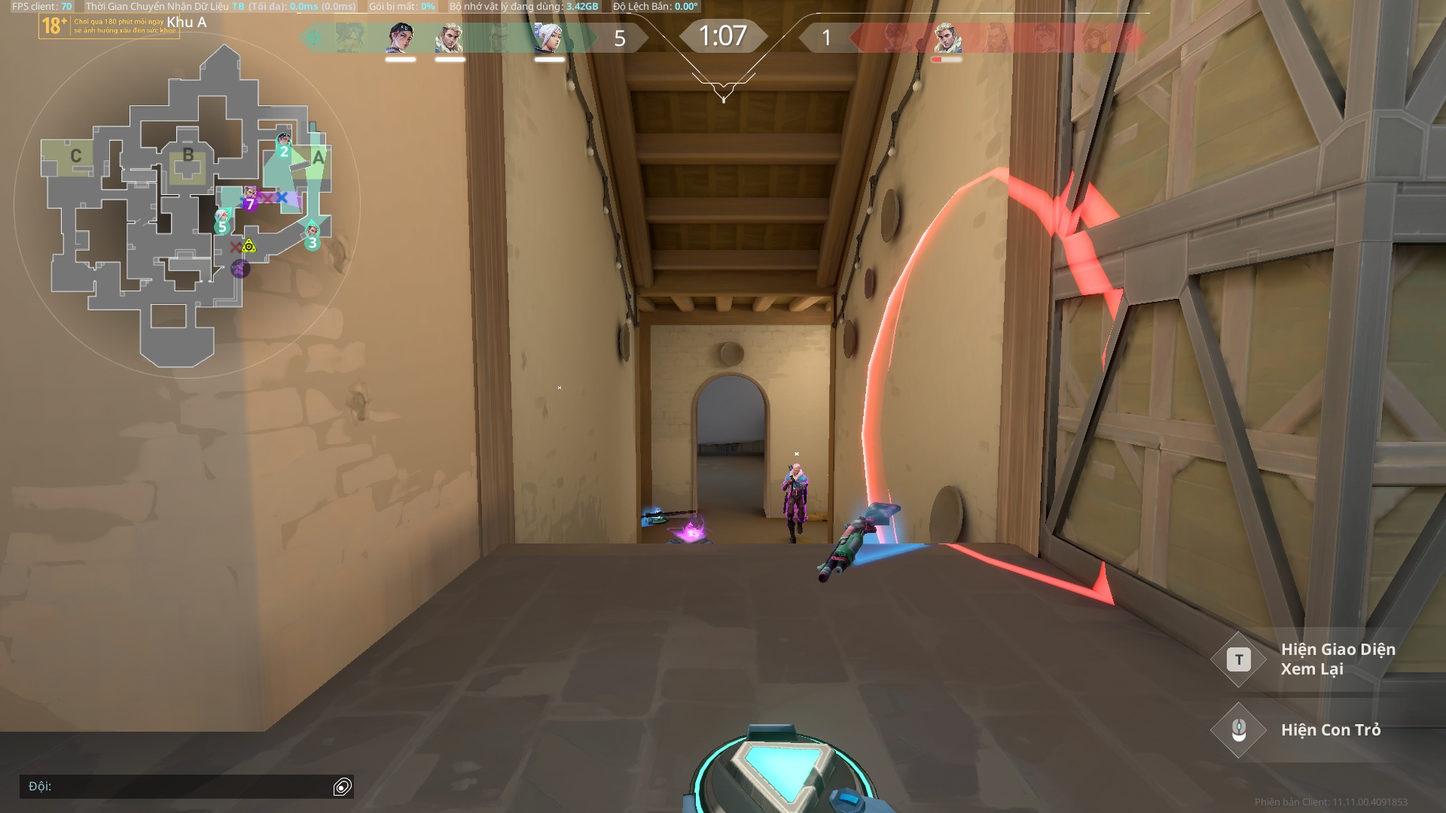body: (783, 472, 807, 490)
head: (792, 463, 801, 475)
